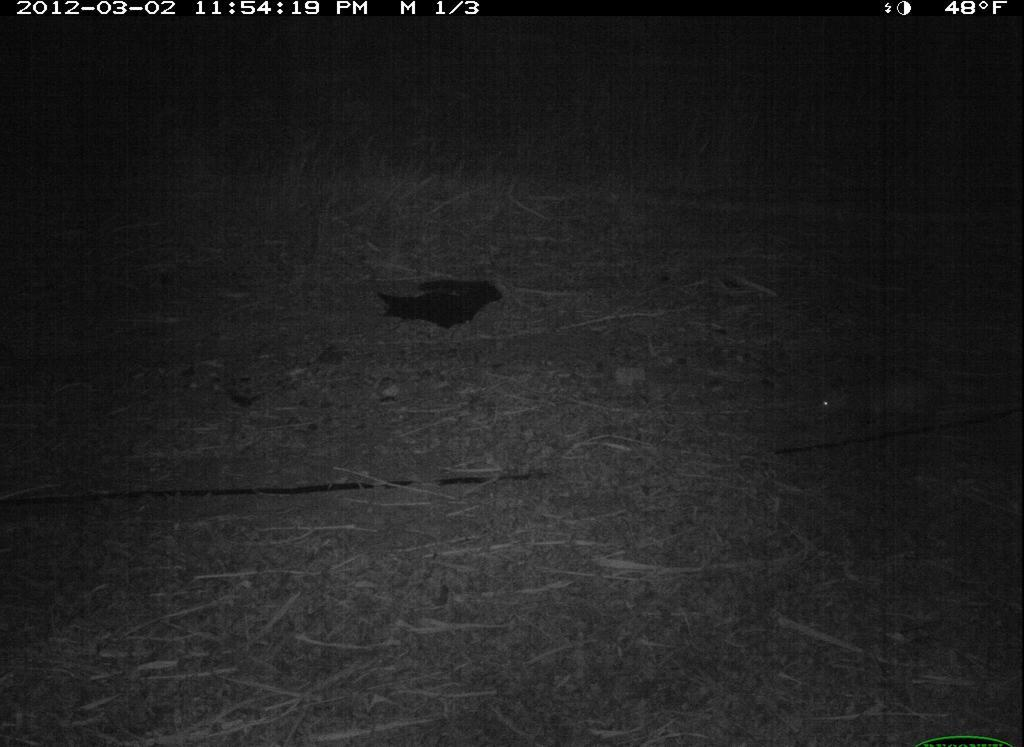opossum: (801, 361, 994, 445)
